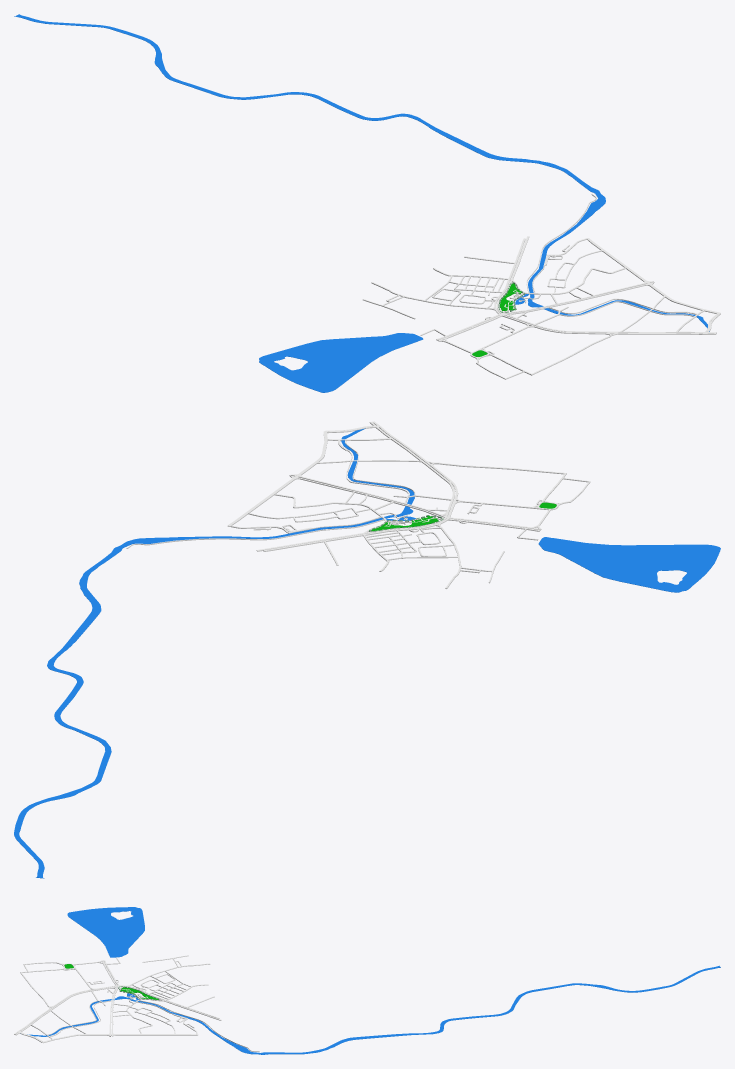
3 views of the same model, one above another, from view 1: azimuth 30°, elevation 25°; view 2: azimuth 150°, elevation 25°; view 3: azimuth 270°, elevation 25° (orthographic). The views are drawn at different scales.
Parts seen in each view (by area): view 1: water, R6, R8, R2, R11; view 2: water, R6, R8, R11, R2; view 3: water, R6, R8, R11, R2, R3.
Boxes of the visible parts, <box> form: water: <box>14,14,709,392</box>; R6: <box>371,238,720,375</box>; R8: <box>362,245,697,379</box>; R2: <box>436,313,716,340</box>; R11: <box>508,194,696,316</box>; water: <box>14,428,720,878</box>; R6: <box>227,425,573,588</box>; R8: <box>248,439,590,583</box>; R11: <box>126,439,427,548</box>; R2: <box>369,421,540,531</box>; water: <box>27,907,720,1054</box>; R6: <box>19,960,214,1043</box>; R8: <box>23,955,194,1036</box>; R11: <box>48,990,259,1051</box>; R2: <box>14,960,118,1035</box>; R3: <box>117,985,221,1020</box>.
Size of the model in its own units: 23.46 by 0.0515 by 47.41.
